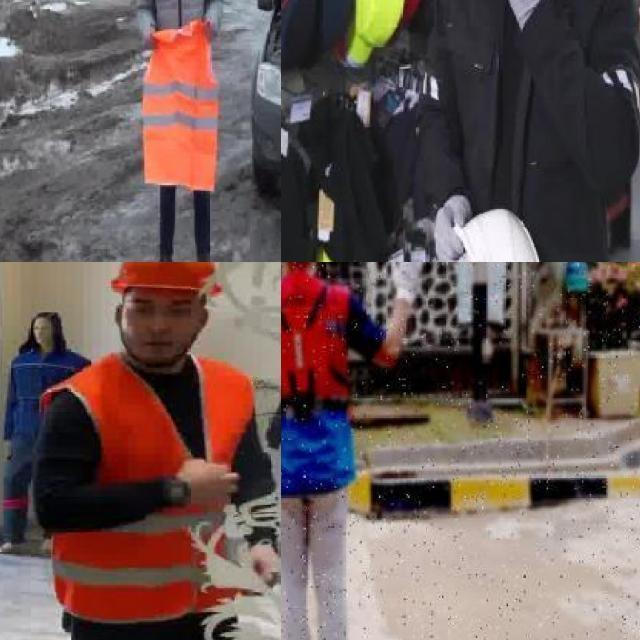apron: (431, 190, 466, 262), (389, 262, 429, 306)
